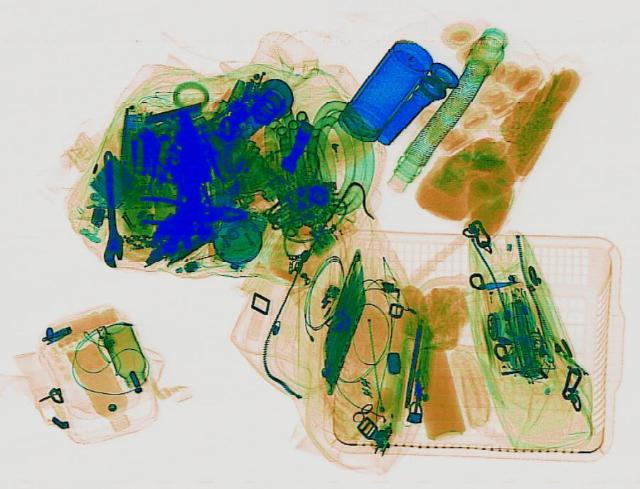Wrench: (96, 150, 125, 267)
